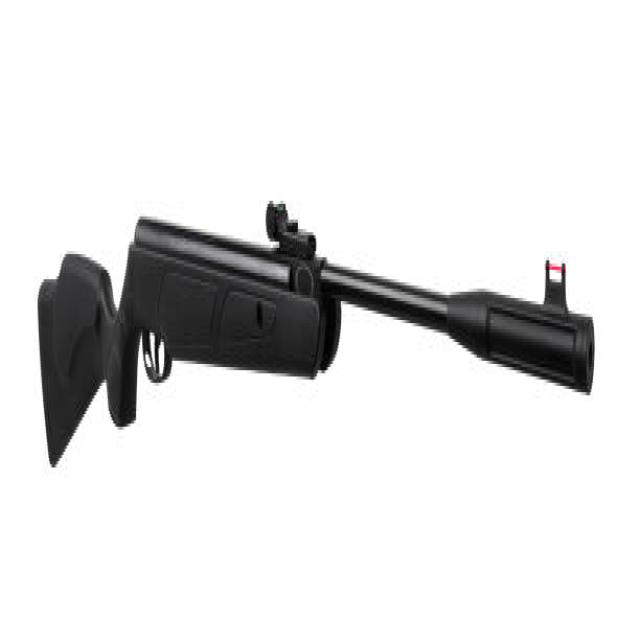rifle: (34, 198, 599, 493)
